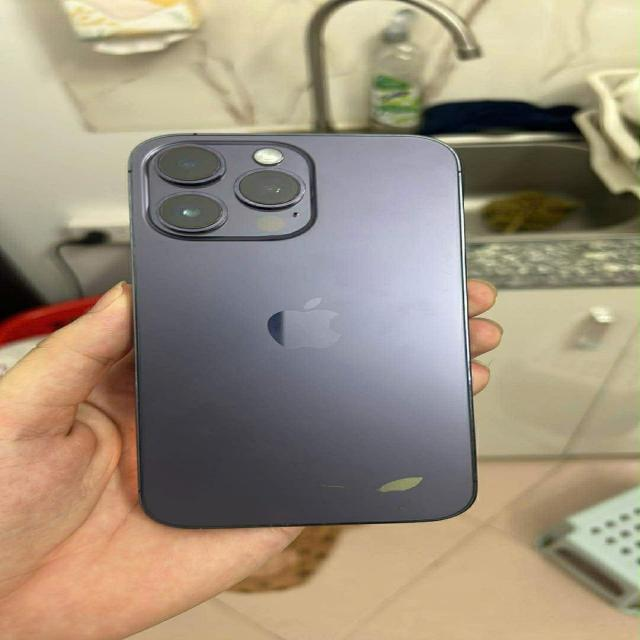gen_15: (124, 129, 479, 532)
scratch: (371, 466, 428, 498), (310, 474, 360, 502)
